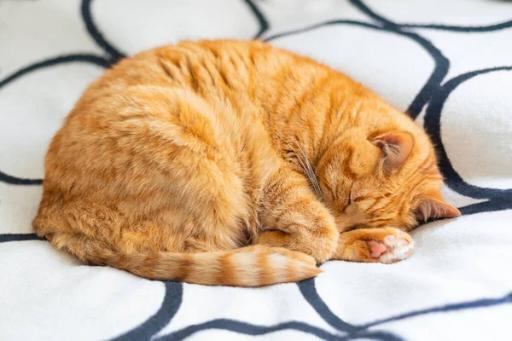cat_sleeping: (32, 41, 460, 286)
